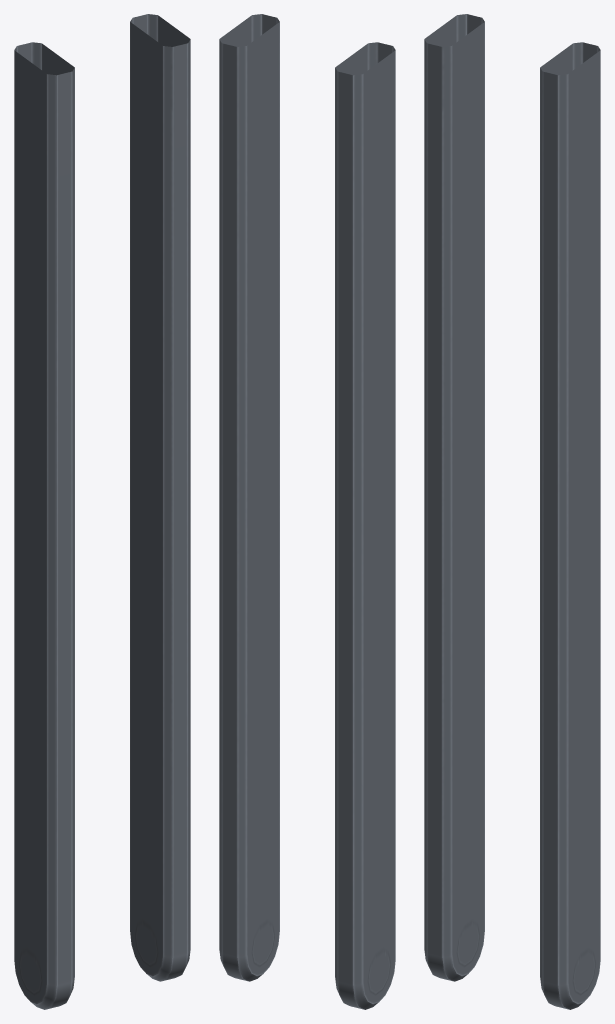
Rendered from saw_arm.glb.
3 views of the same model, side by side, from view 1: azimuth 30°, elevation 25°; view 2: azimuth 150°, elevation 25°; view 3: azimuth 330°, elevation 25° (orthographic).
Parts seen in each view (by area): view 1: Arm; view 2: Arm; view 3: Arm.
Boxes of the visible parts, x1,y1,x2,y2 form: Arm: (14,14,190,1009); Arm: (219,14,395,1009); Arm: (424,14,600,1009).
Size of the model in its own units: 4.61 by 29.01 by 2.22.
Materials: 1 (1 with a texture image).
